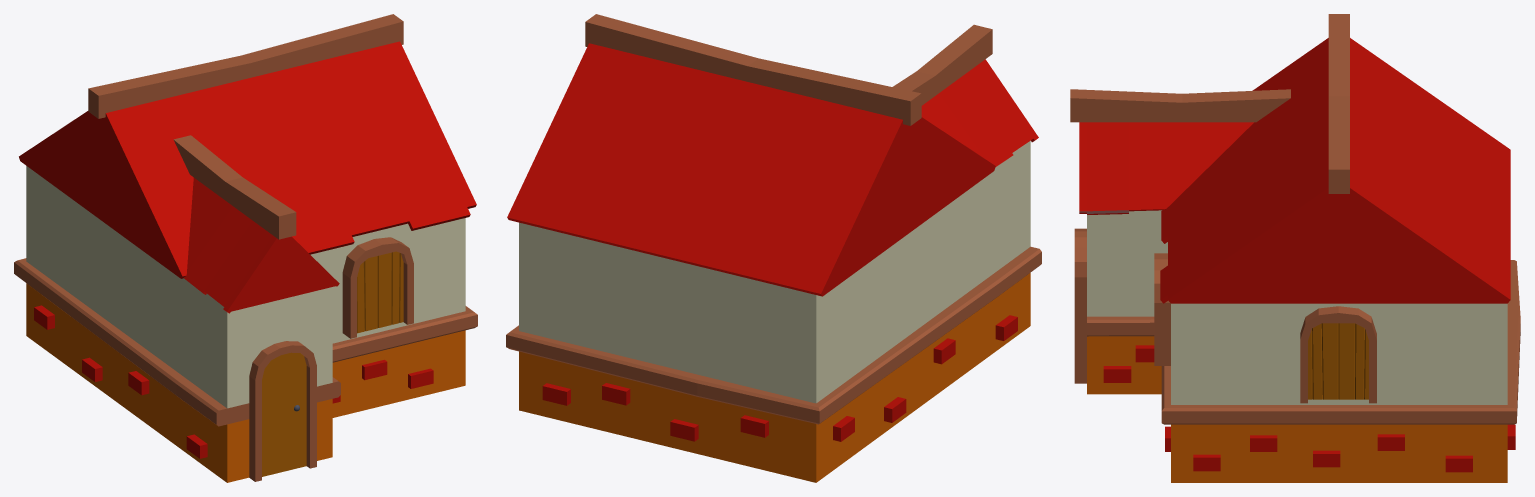
File: House.fbx
3 renders of one model, left to right at view 1: azimuth 30°, elevation 25°; view 2: azimuth 150°, elevation 25°; view 3: azimuth 270°, elevation 25°, orthographic. The views are drawn at different scales.
Visible parts, largest first — view 1: House; view 2: House; view 3: House.
Boxes of the visible parts, x1=… form: House: x1=14, y1=14, x2=477, y2=482; House: x1=506, y1=14, x2=1041, y2=482; House: x1=1070, y1=14, x2=1520, y2=482.
Size of the model in its own units: 438 by 420 by 535.
Materials: 1 (1 with a texture image).
